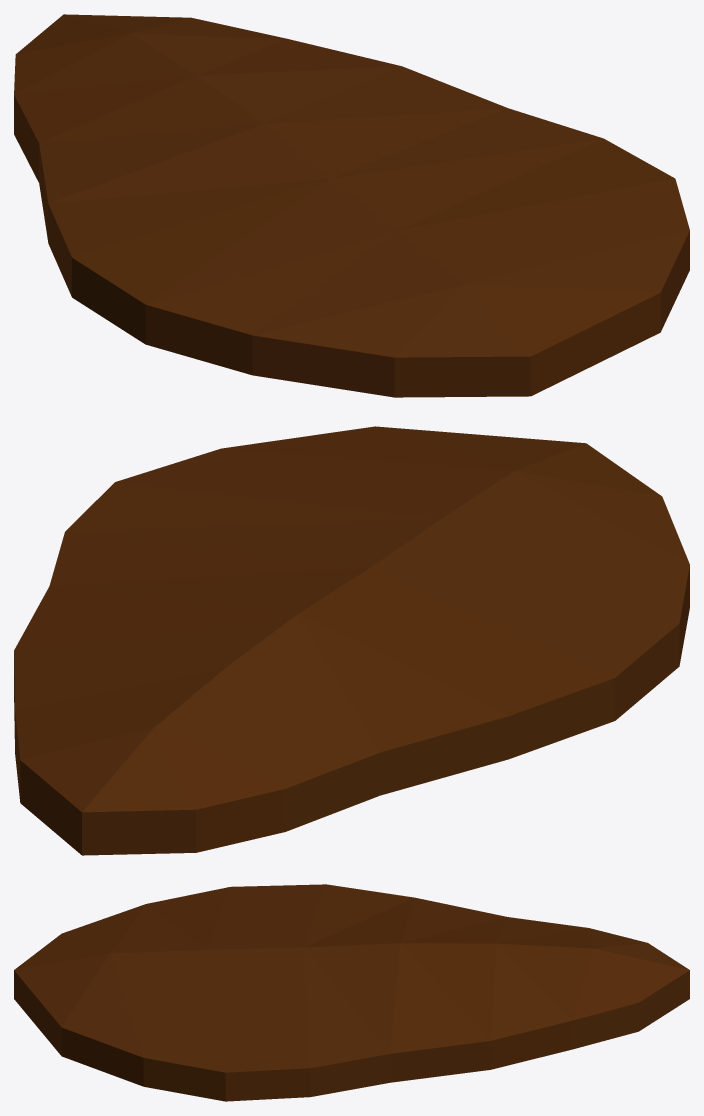
Rendered from flowerSeed.fbx.
3 views of the same model, one above another, from view 1: azimuth 30°, elevation 25°; view 2: azimuth 150°, elevation 25°; view 3: azimuth 270°, elevation 25° (orthographic). The views are drawn at different scales.
Parts seen in each view (by area): view 1: flowerSeed; view 2: flowerSeed; view 3: flowerSeed.
Boxes of the visible parts, x1=… form: flowerSeed: x1=14, y1=14, x2=689, y2=397; flowerSeed: x1=14, y1=426, x2=689, y2=855; flowerSeed: x1=14, y1=884, x2=689, y2=1101.
Bounding box in the file's own units: 28.91 × 5.73 × 43.86.
